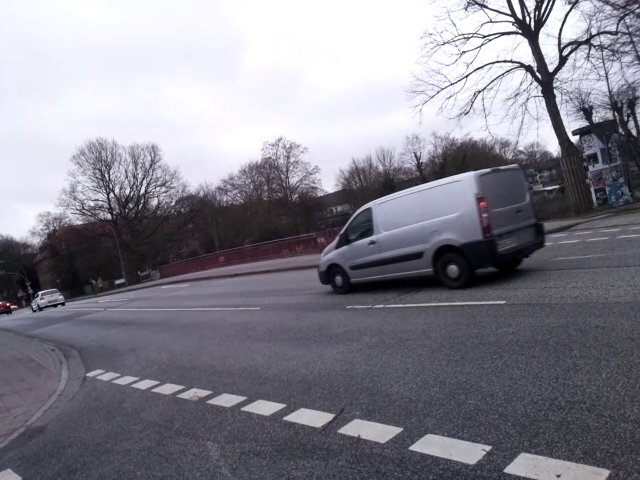car: (313, 165, 544, 284)
